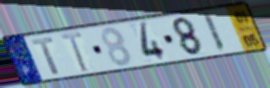4: (138, 20, 168, 63)
8: (100, 25, 134, 68), (171, 16, 204, 58)
I: (200, 11, 228, 54)
T: (58, 30, 90, 74), (30, 35, 62, 77)
